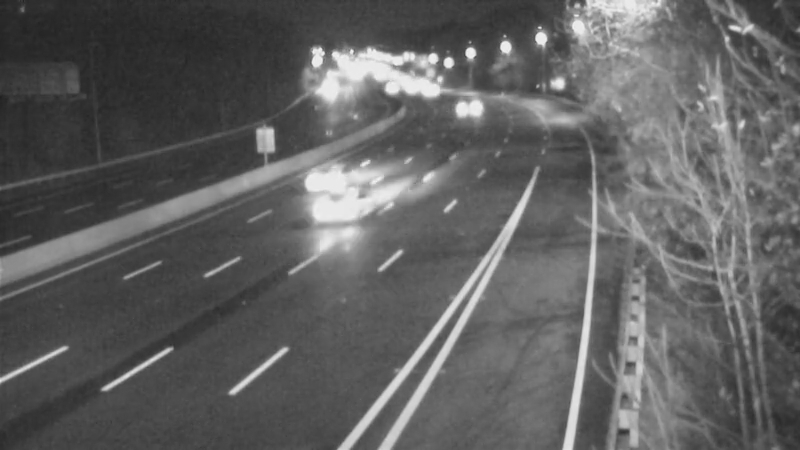vehicle: (290, 138, 370, 218), (315, 167, 395, 247), (405, 66, 455, 116), (444, 80, 494, 130)
